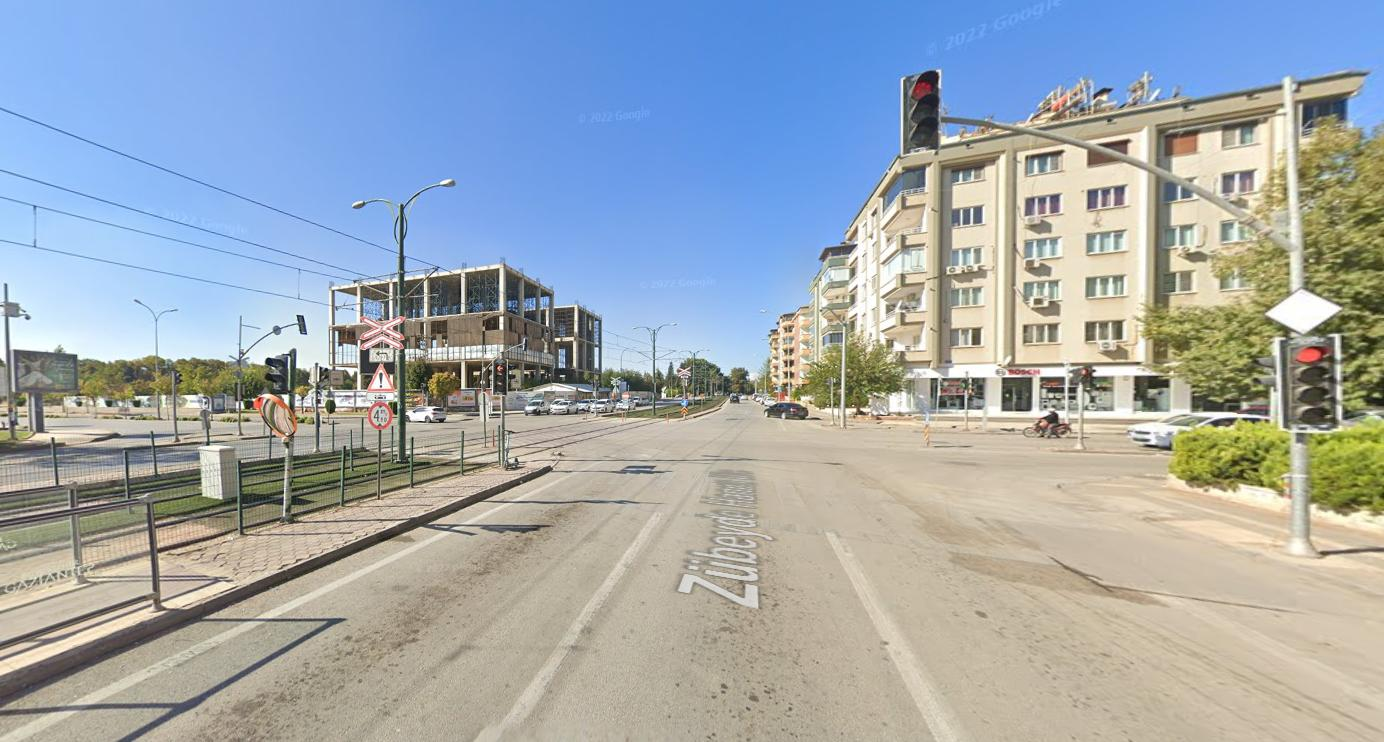redlight: (1284, 336, 1338, 433), (907, 75, 942, 151)
